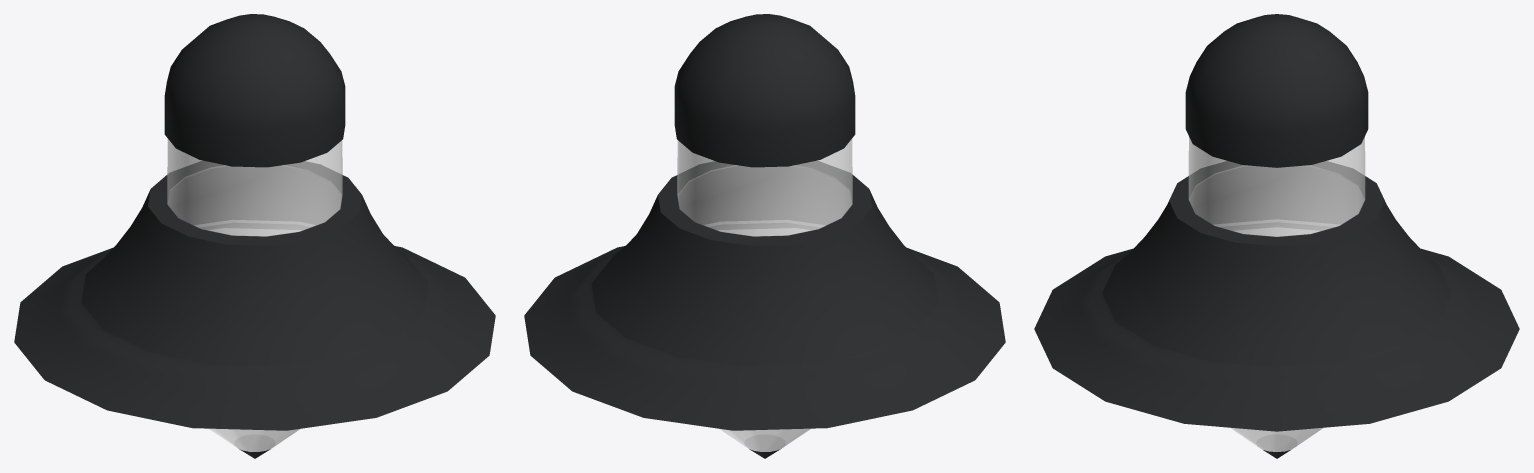
The model's file is Histo.glb.
The picture shows the model from 3 angles, left to right: view 1: azimuth 30°, elevation 25°; view 2: azimuth 150°, elevation 25°; view 3: azimuth 270°, elevation 25°; orthographic projection.
Visible parts, largest first — view 1: Leuchtenschirm.001, Glas.001; view 2: Leuchtenschirm.001, Glas.001; view 3: Leuchtenschirm.001, Glas.001.
Boxes of the visible parts, x1,y1,x2,y2 form: Leuchtenschirm.001: (14,14,495,458); Glas.001: (167,138,342,451); Leuchtenschirm.001: (524,14,1005,458); Glas.001: (677,138,852,451); Leuchtenschirm.001: (1034,14,1519,458); Glas.001: (1188,137,1365,451).
Size of the model in its own units: 0.5465 by 0.5424 by 0.5465.
3 materials, 2 textured.
